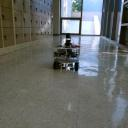cart: (53, 46, 79, 71)
